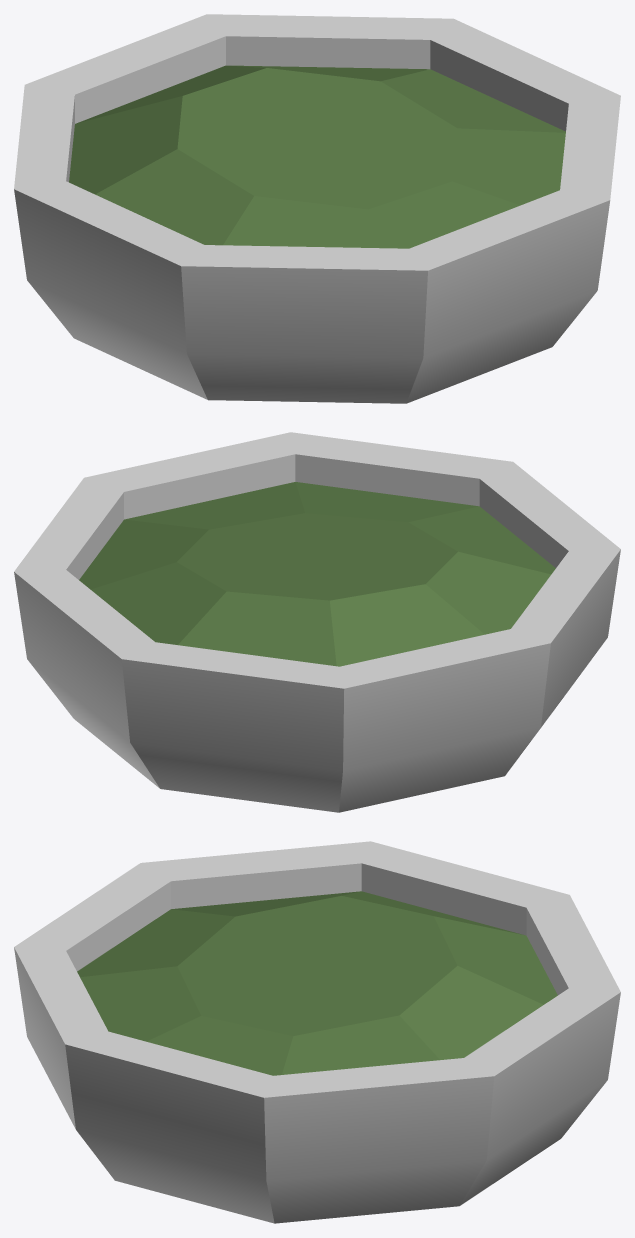
The model's file is RiceBowl.fbx.
3 renders of one model, top to bottom at view 1: azimuth 30°, elevation 25°; view 2: azimuth 150°, elevation 25°; view 3: azimuth 270°, elevation 25°, orthographic. The views are drawn at different scales.
Visible parts, largest first — view 1: RiceBowl; view 2: RiceBowl; view 3: RiceBowl.
Boxes of the visible parts, box(x1,y1,x2,y2) form: RiceBowl: box(14, 14, 620, 403); RiceBowl: box(14, 432, 620, 812); RiceBowl: box(14, 841, 620, 1223).
Size of the model in its own units: 24.46 by 7.56 by 24.46.
